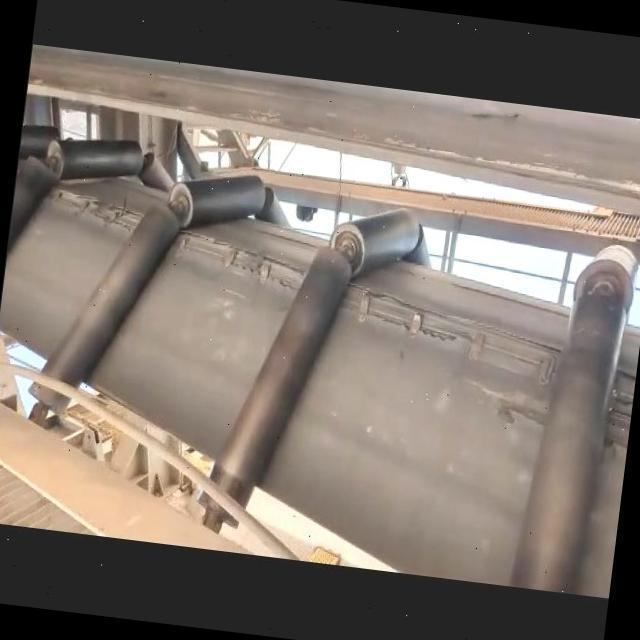Tear: (345, 270, 561, 390), (176, 224, 310, 294), (49, 183, 148, 234)
Wear: (456, 377, 550, 438)
